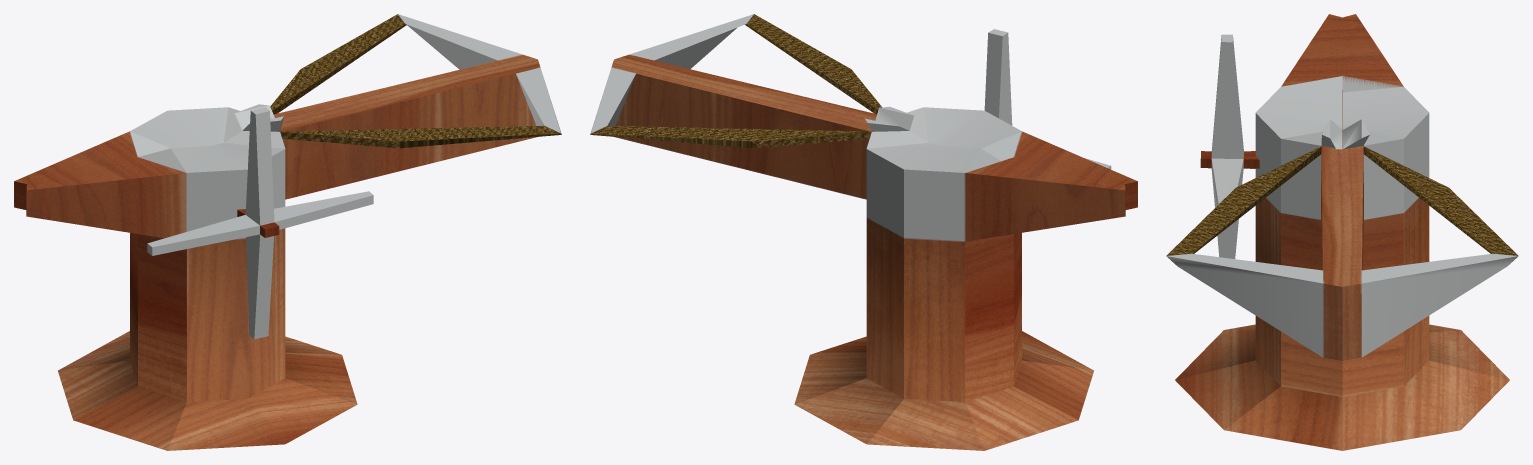
The model's file is Crossbow.fbx.
The picture shows the model from 3 angles, left to right: view 1: azimuth 30°, elevation 25°; view 2: azimuth 150°, elevation 25°; view 3: azimuth 270°, elevation 25°; orthographic projection. The views are drawn at different scales.
Visible parts, largest first — view 1: pCylinder1; view 2: pCylinder1; view 3: pCylinder1.
Boxes of the visible parts, left/top/right/bottom form: pCylinder1: left=14, top=14, right=561, bottom=450; pCylinder1: left=590, top=14, right=1137, bottom=450; pCylinder1: left=1166, top=14, right=1518, bottom=450.
Bounding box in the file's own units: 7.53 × 4.39 × 4.11.
1 material, 1 textured.
